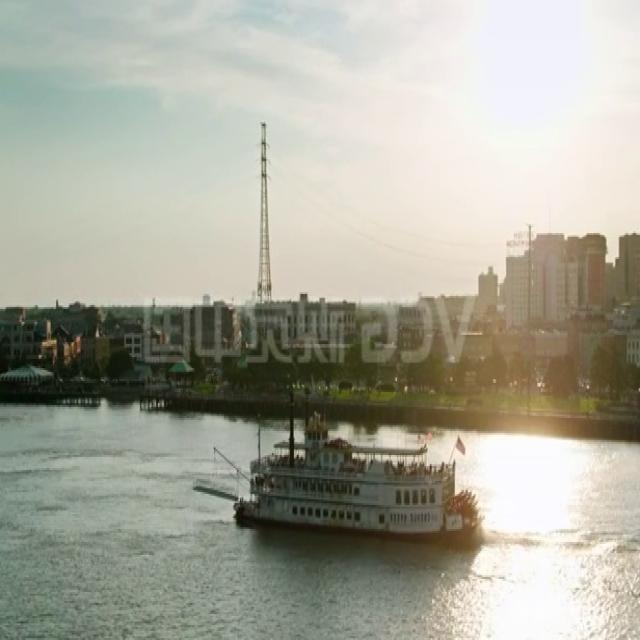passenger ship: (214, 401, 485, 537)
